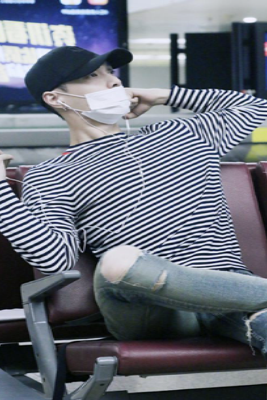mask_weared_incorrect: (63, 67, 130, 121)
